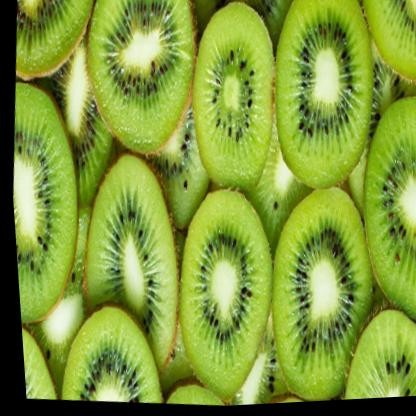--: (246, 153, 394, 406), (59, 142, 199, 395), (155, 178, 286, 410), (259, 0, 388, 204), (4, 68, 99, 340), (175, 7, 291, 202), (71, 0, 208, 165), (336, 86, 416, 334)
